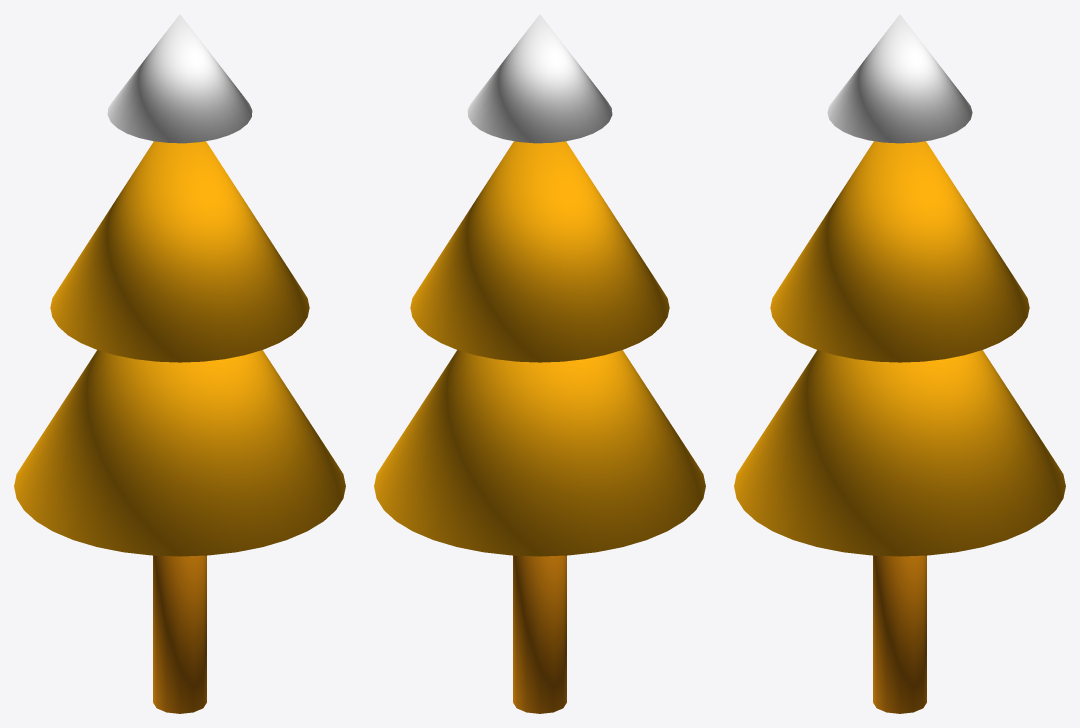
The model's file is prop_tree_cone.glb.
The picture shows the model from 3 angles, left to right: view 1: azimuth 30°, elevation 25°; view 2: azimuth 150°, elevation 25°; view 3: azimuth 270°, elevation 25°; orthographic projection.
Visible parts, largest first — view 1: cone tree lower crown, cone tree middle crown, cone tree white cap, cone tree trunk; view 2: cone tree lower crown, cone tree middle crown, cone tree white cap, cone tree trunk; view 3: cone tree lower crown, cone tree middle crown, cone tree white cap, cone tree trunk.
Boxes of the visible parts, x1,y1,x2,y2 form: cone tree lower crown: (14, 350, 345, 556); cone tree middle crown: (50, 141, 309, 362); cone tree white cap: (107, 14, 252, 143); cone tree trunk: (153, 555, 206, 713); cone tree lower crown: (374, 350, 705, 556); cone tree middle crown: (410, 141, 669, 362); cone tree white cap: (467, 14, 612, 143); cone tree trunk: (513, 555, 566, 713); cone tree lower crown: (734, 350, 1065, 556); cone tree middle crown: (770, 141, 1029, 362); cone tree white cap: (827, 14, 972, 143); cone tree trunk: (873, 555, 926, 713).
Size of the model in its own units: 0.32 by 0.7325 by 0.32.
